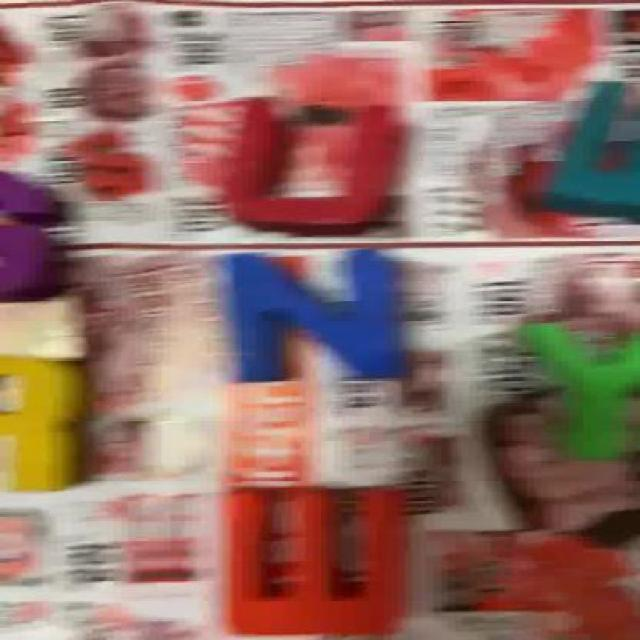N: (218, 249, 398, 377)
U: (226, 94, 400, 231)
W: (222, 488, 410, 630)
